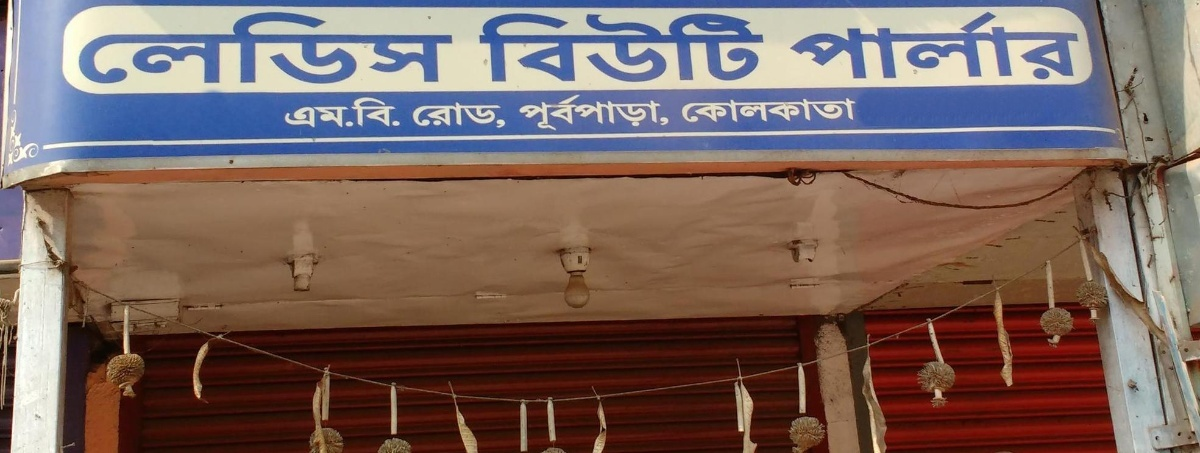text: (81, 10, 96, 87), (97, 10, 112, 87), (113, 10, 128, 87), (129, 10, 144, 87), (145, 10, 160, 87), (161, 10, 176, 87), (177, 10, 192, 87), (193, 10, 208, 87), (209, 10, 224, 87), (225, 10, 240, 87), (241, 10, 256, 87), (257, 10, 272, 87), (273, 10, 288, 87), (289, 10, 304, 87), (305, 10, 320, 87), (321, 10, 336, 87), (337, 10, 352, 87), (353, 10, 368, 87), (369, 10, 384, 87), (385, 10, 400, 87), (401, 10, 416, 87), (417, 10, 432, 87), (433, 10, 448, 87), (481, 8, 496, 84), (497, 8, 512, 84), (513, 8, 528, 84), (529, 8, 544, 84), (545, 8, 560, 84), (561, 8, 576, 84), (577, 8, 592, 84), (593, 8, 608, 84), (609, 8, 624, 84), (625, 8, 640, 84), (641, 8, 656, 84), (657, 8, 672, 84), (673, 8, 688, 84), (689, 8, 704, 84), (705, 8, 720, 84), (721, 8, 736, 84), (737, 8, 752, 84), (801, 11, 816, 80), (817, 11, 832, 80), (833, 11, 848, 80), (849, 11, 864, 80), (865, 11, 880, 80), (881, 11, 896, 80), (897, 11, 912, 80), (913, 11, 928, 80), (929, 11, 944, 80), (945, 11, 960, 80), (961, 11, 976, 80), (977, 11, 992, 80), (993, 11, 1008, 80), (1009, 11, 1024, 80), (1025, 11, 1040, 80), (1041, 11, 1056, 80), (1057, 11, 1072, 80), (753, 8, 766, 84), (449, 10, 460, 87), (788, 11, 800, 80), (1073, 11, 1084, 80), (529, 95, 544, 132), (545, 95, 560, 132), (561, 95, 576, 132), (577, 95, 592, 132), (593, 95, 608, 132), (609, 95, 624, 132), (625, 95, 640, 132), (641, 95, 656, 132), (657, 95, 671, 132), (385, 97, 401, 128), (353, 97, 368, 128), (369, 97, 384, 128), (74, 10, 80, 87), (417, 100, 432, 129), (433, 100, 448, 129), (449, 100, 464, 129), (465, 100, 480, 129), (481, 100, 496, 129), (689, 97, 704, 123), (705, 97, 720, 123), (721, 97, 736, 123), (737, 97, 752, 123), (753, 97, 768, 123), (769, 97, 784, 123), (785, 97, 800, 123), (801, 97, 816, 123), (817, 97, 832, 123), (833, 97, 848, 123), (289, 106, 304, 130), (305, 106, 320, 130), (321, 106, 336, 130), (337, 106, 352, 130), (849, 97, 862, 123), (519, 95, 528, 132), (497, 100, 508, 129), (681, 97, 688, 123), (478, 8, 480, 84), (283, 106, 288, 130), (412, 100, 416, 129), (351, 97, 352, 128), (353, 106, 354, 130)
